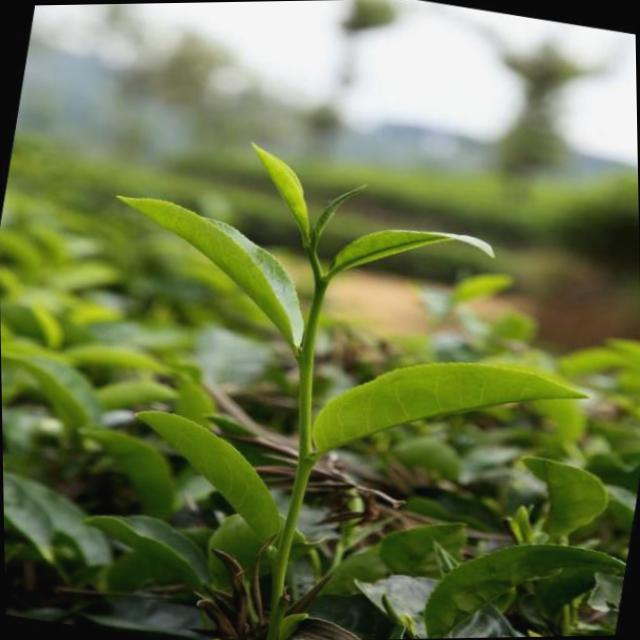Stem: (315, 280, 328, 293)
